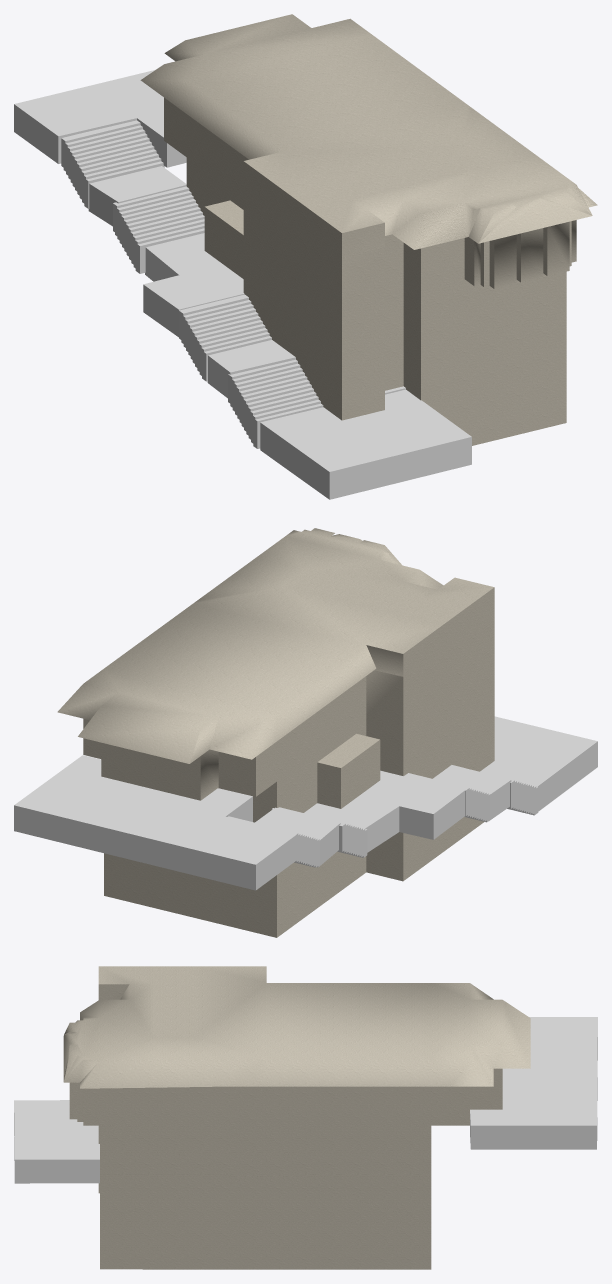
Rendered from science.fbx.
The picture shows the model from 3 angles, top to bottom: view 1: azimuth 30°, elevation 25°; view 2: azimuth 150°, elevation 25°; view 3: azimuth 270°, elevation 25°; orthographic projection. The views are drawn at different scales.
Visible parts, largest first — view 1: base, MERDİVENS, Cube_Instance_0_4; view 2: base, MERDİVENS; view 3: base, MERDİVENS.
Boxes of the visible parts, x1,y1,x2,y2 form: base: (140, 14, 597, 445); MERDİVENS: (14, 70, 471, 499); Cube_Instance_0_4: (61, 120, 140, 168); base: (57, 528, 494, 937); MERDİVENS: (14, 716, 597, 890); base: (63, 966, 530, 1269); MERDİVENS: (14, 1017, 597, 1183).
Bounding box in the file's own units: 2344 × 1763 × 4460.
